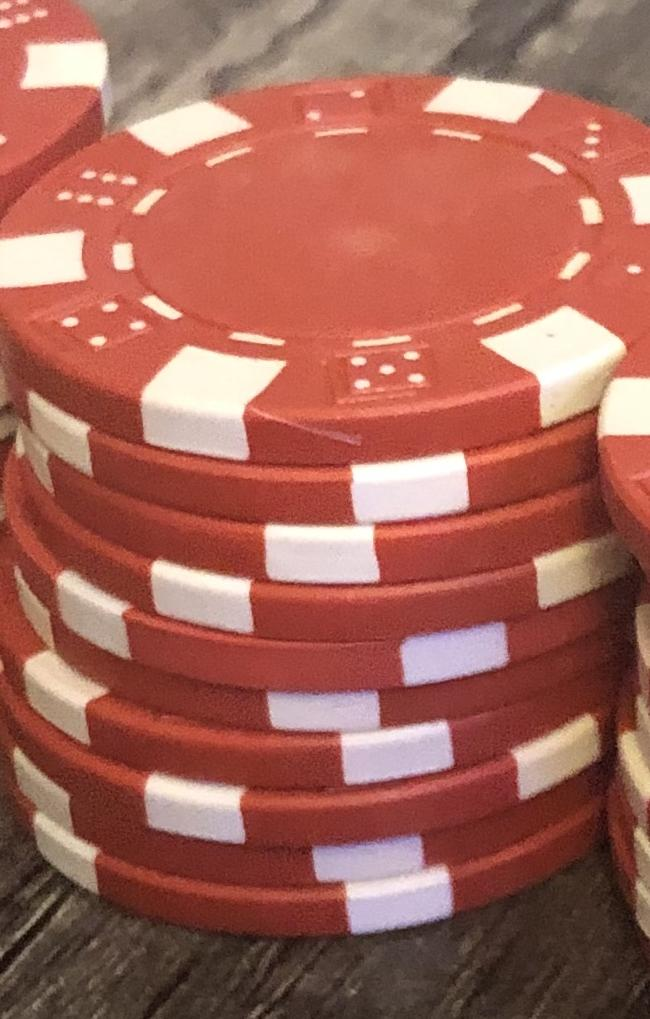Chip: (1, 1, 650, 1019)
